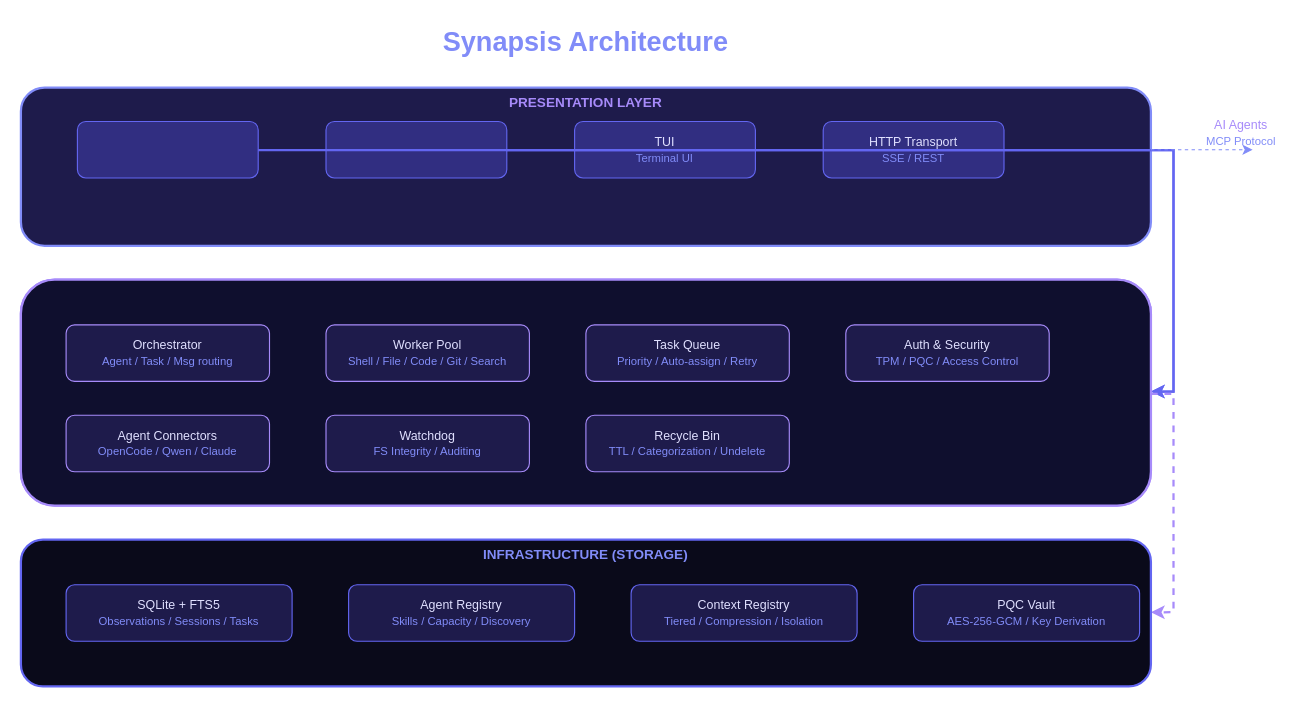
The diagram is 1316 pixels wide and 706 high, and some of its shapes have lost their labels. Here are the shapes that lost their labels. From the top down, the centre of each, then its label:
At (x=167, y=149): "MCP Server HTTP/SSE + Stdio".
At (x=416, y=149): "CLI Command Line".
